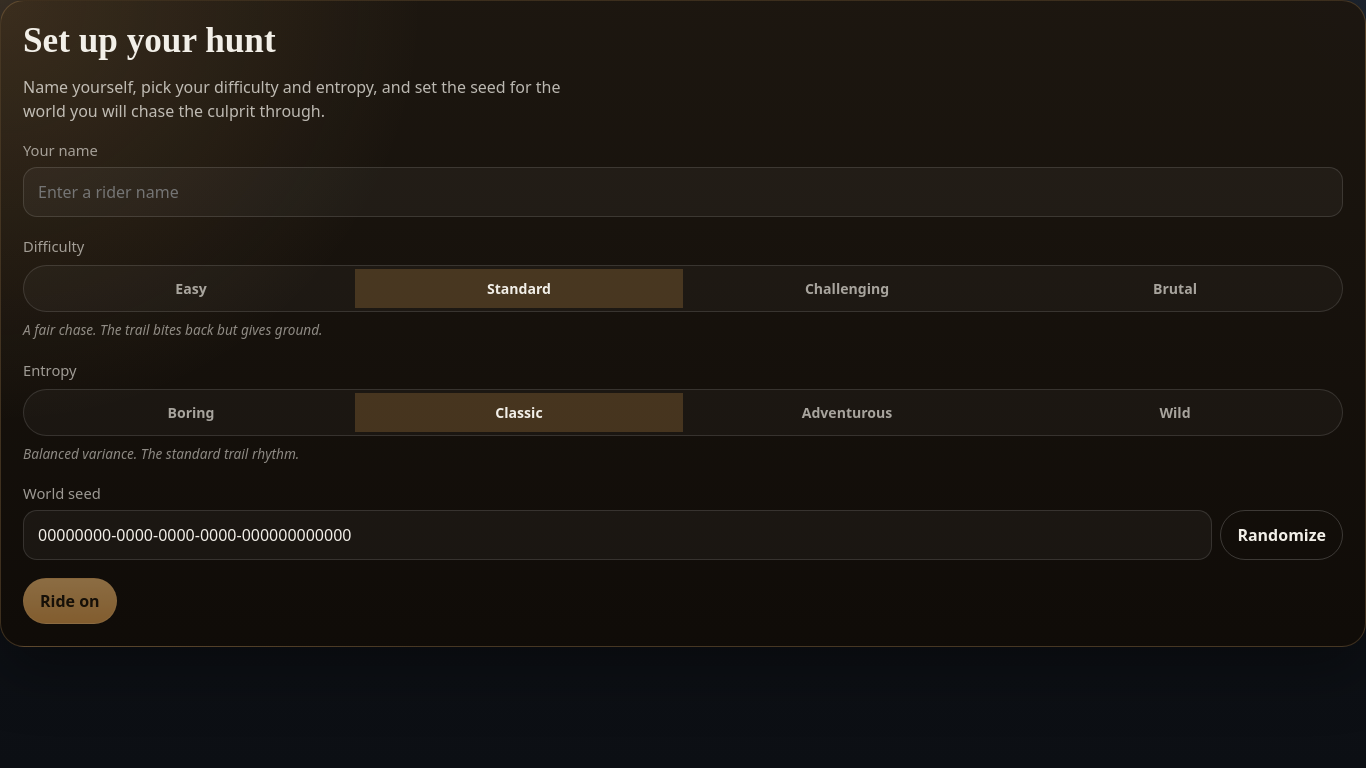
it: SetupHuntStep › disables the Ride on button until a valid name is entered
The image size is (1366, 768).
Expected: the button "Ride on" is disabled, [23,578,117,624]
Type "Ranger Vale" into the field labelled "Your name". click: [683, 192]
box: [23,167,1343,217]
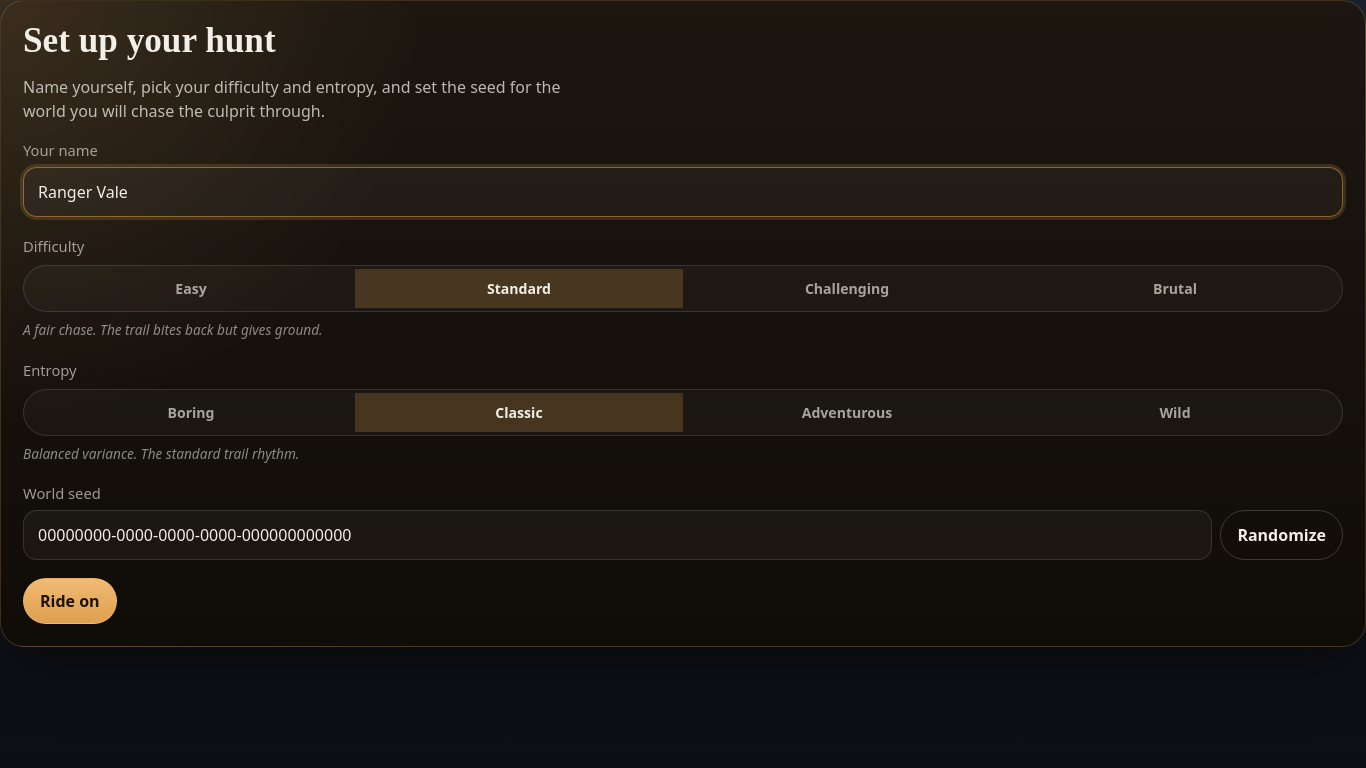
Now the button "Ride on" is enabled, box [23,578,117,624]
